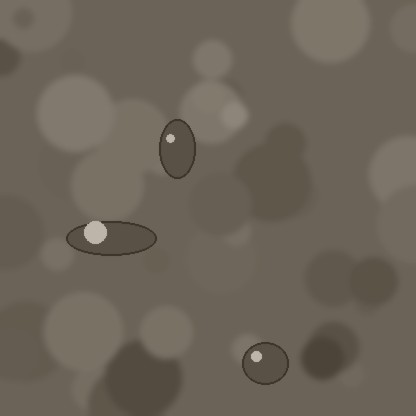gota: (66, 222, 156, 258), (159, 121, 195, 183), (242, 344, 288, 388)
